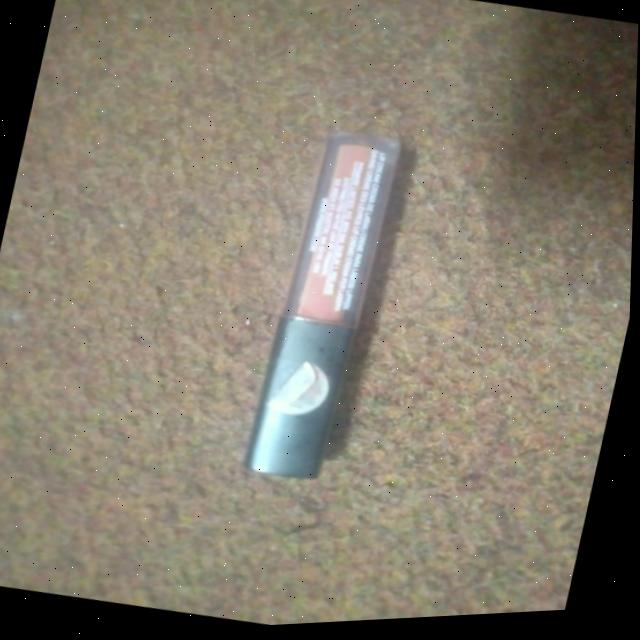lip gloss: (209, 110, 439, 517)
